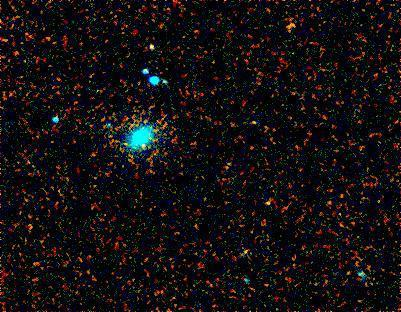star: (232, 236, 262, 266)
